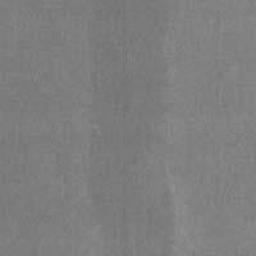Oil spot: (90, 1, 172, 255)
